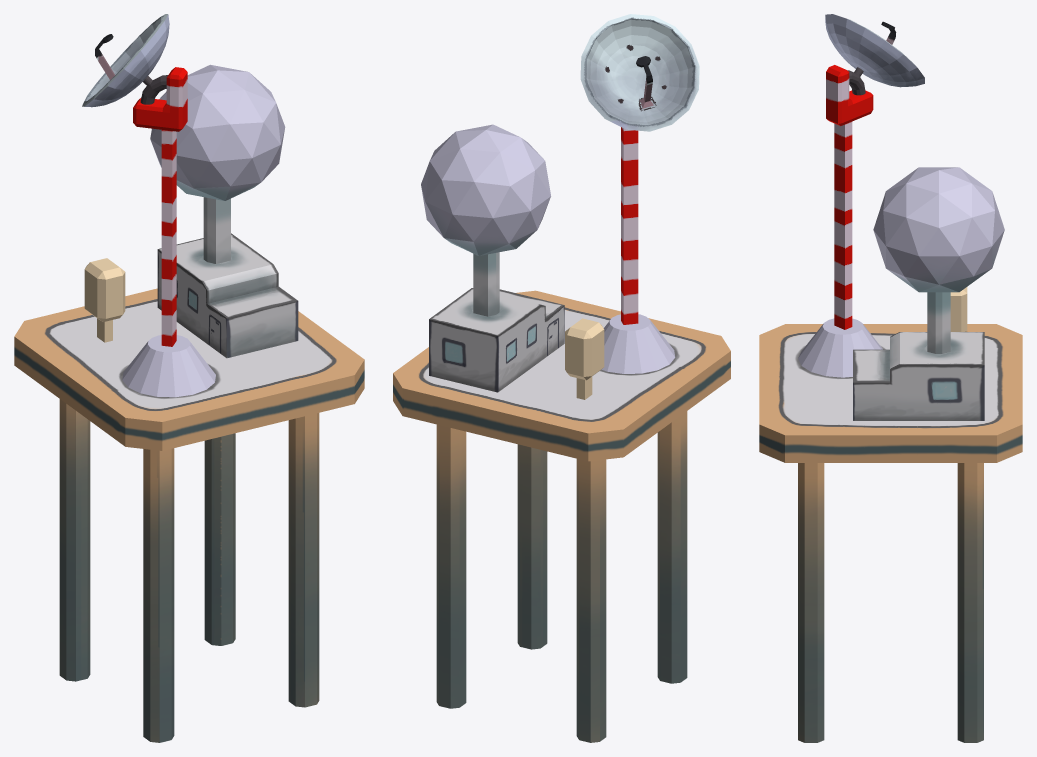
The model's file is Meteo.gltf.
3 renders of one model, left to right at view 1: azimuth 30°, elevation 25°; view 2: azimuth 150°, elevation 25°; view 3: azimuth 270°, elevation 25°, orthographic. The views are drawn at different scales.
Parts seen in each view (by area): view 1: Meteo; view 2: Meteo; view 3: Meteo.
Part boxes in pixels (x1,y1,x2,y2): Meteo: (14,14,364,742); Meteo: (393,14,730,742); Meteo: (759,14,1022,742).
Size of the model in its own units: 2.94 by 8.19 by 2.94.
Materials: 1 (1 with a texture image).
